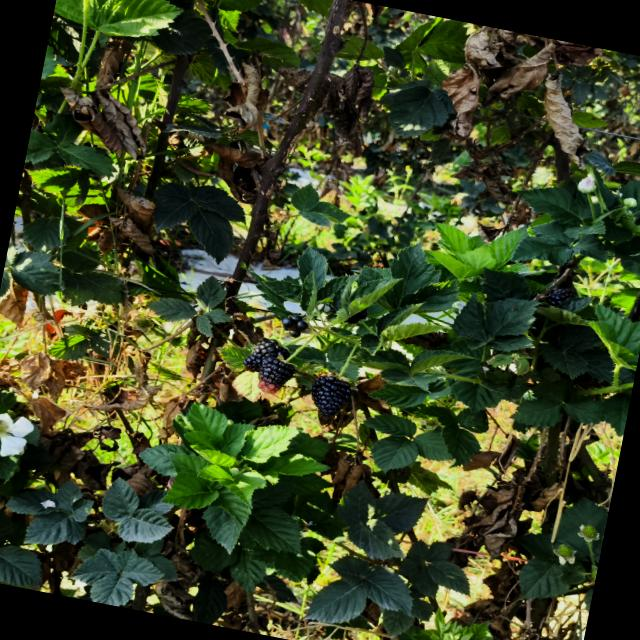boton: (623, 198, 637, 208)
flor: (0, 413, 33, 457)
maduro: (312, 375, 352, 418), (244, 339, 290, 371), (547, 289, 572, 306)
marron: (258, 357, 294, 393)
